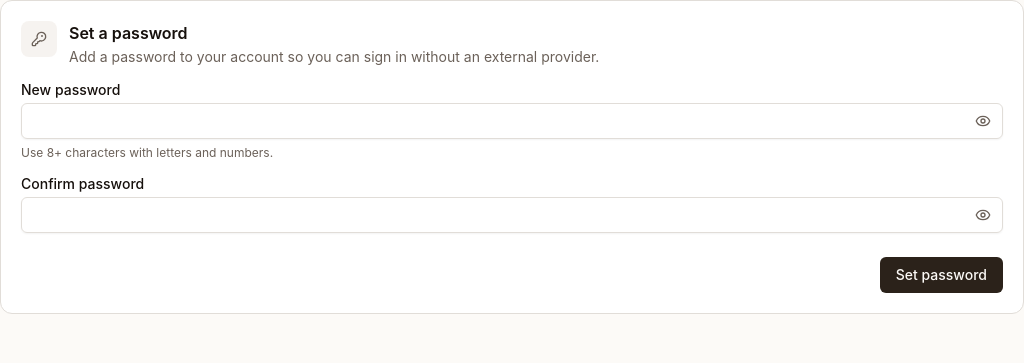
Test: <SetPasswordForm /> › shows the inline confirm-mismatch error before submitting
The width and height of the screenshot is (1024, 363).
Type "super-strong-pw" into the password field with test id "set-new-password" at (512, 121), box [21,103,1003,139]
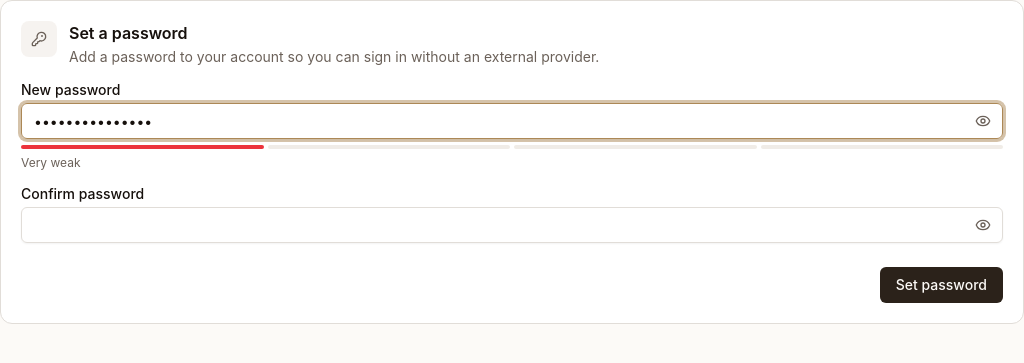
Type "different-pw" into the password field with test id "set-confirm-password" at (512, 225), box [21,207,1003,243]
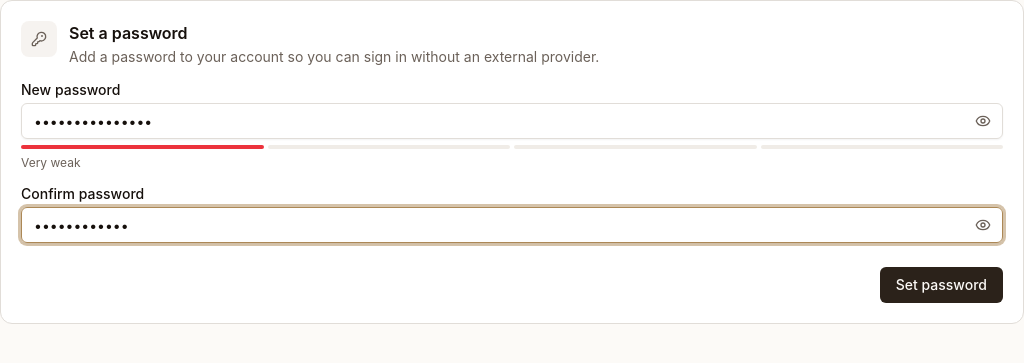
Click the button with test id "set-password-submit" at (941, 285), box [880,267,1003,303]
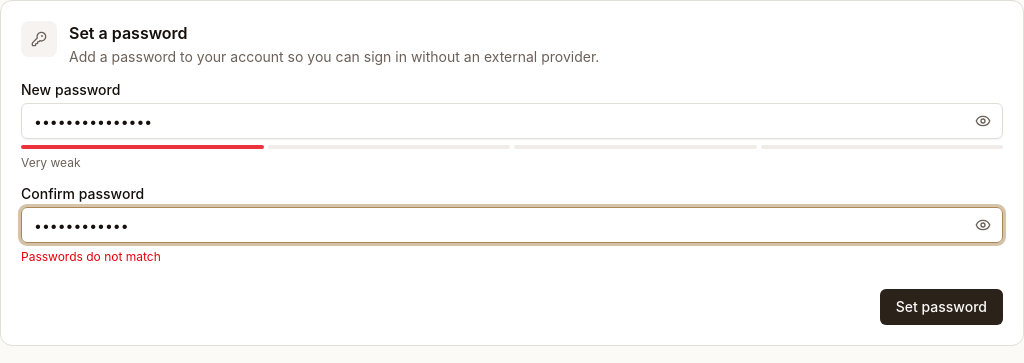
Check: the text "Passwords do not match" is shown, box [21,249,161,264]
